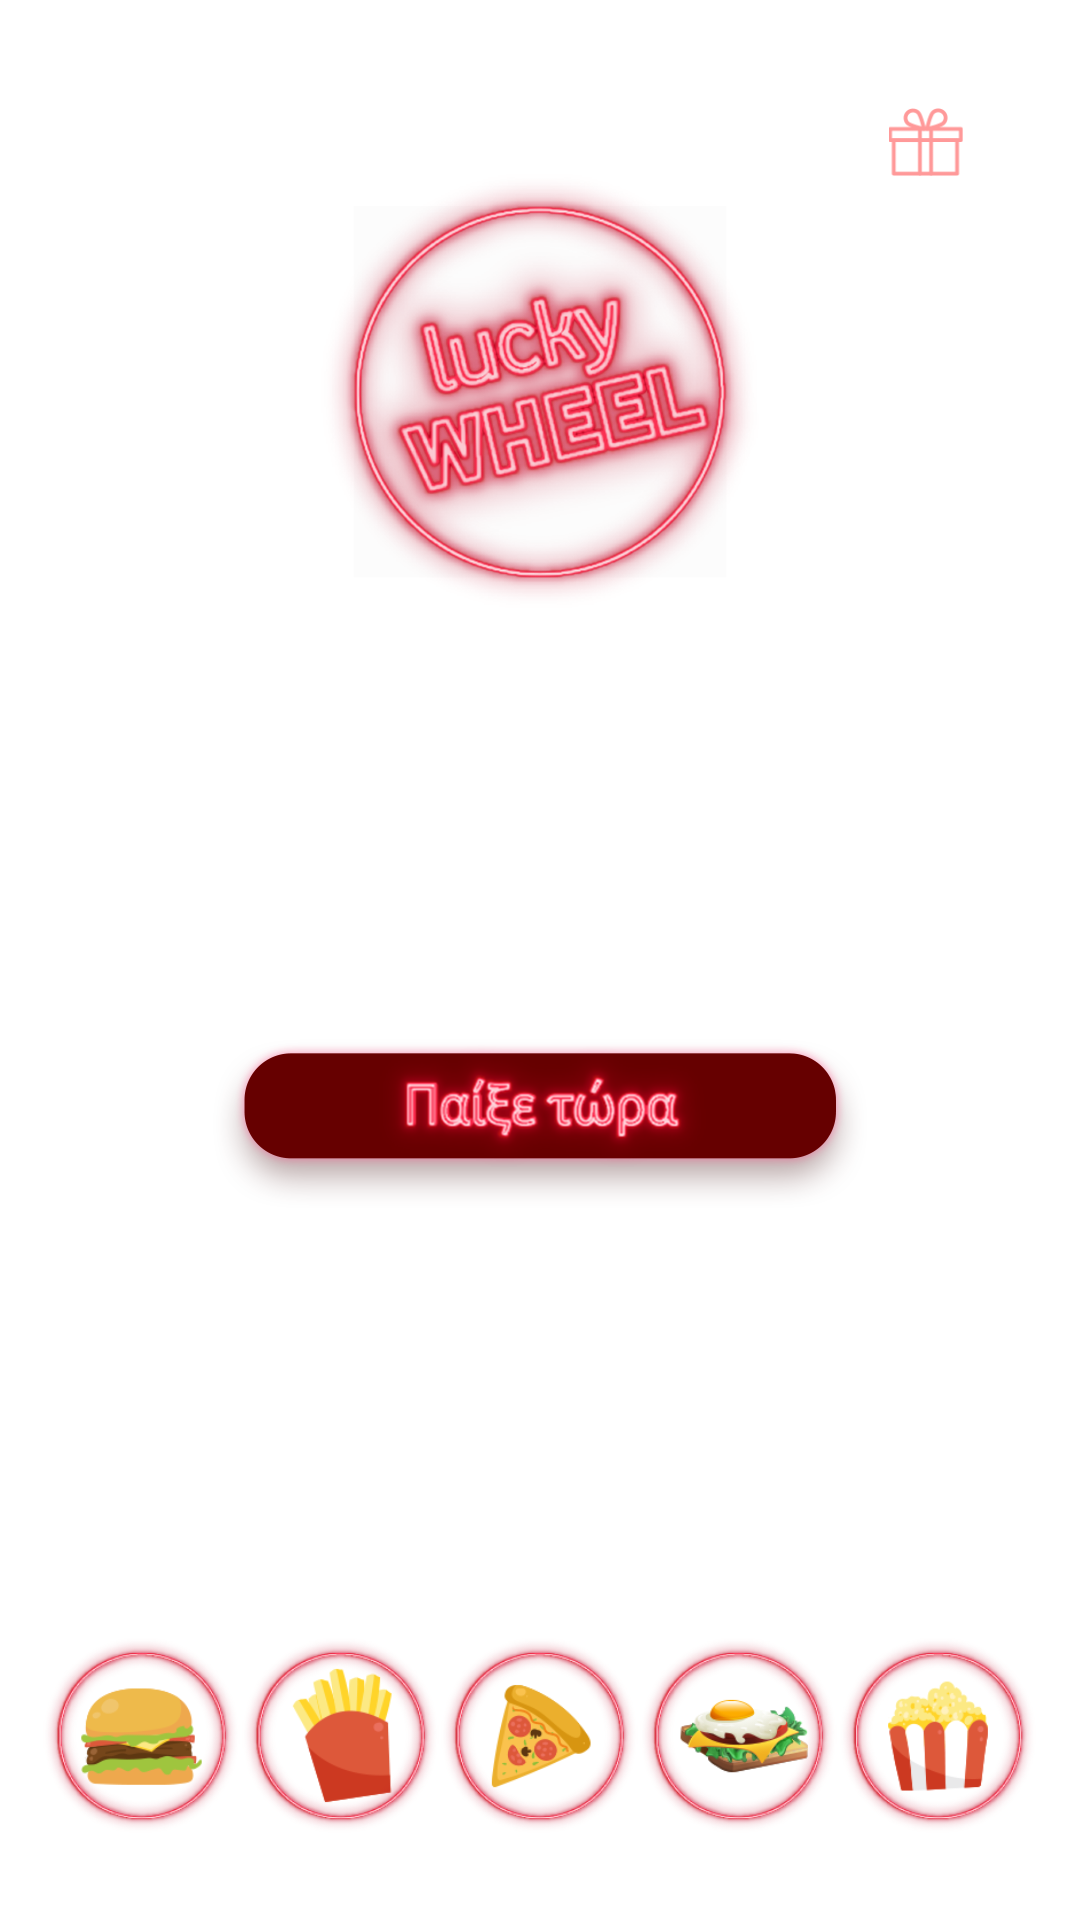

Screen size 1080 x 1920. Icon name, then its box in pixels as [x1, y1, x2, y2]:
burger: [52, 1646, 231, 1824]
egg: [649, 1646, 828, 1824]
gifts: [889, 108, 963, 176]
pizza: [450, 1646, 629, 1824]
popcorn: [848, 1646, 1027, 1824]
potatoes: [251, 1646, 430, 1824]
